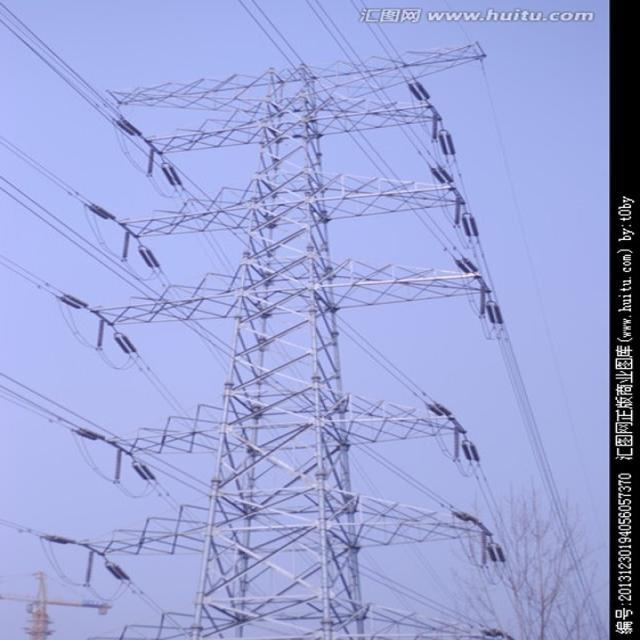non-critical vegetation: (87, 58, 524, 634)
